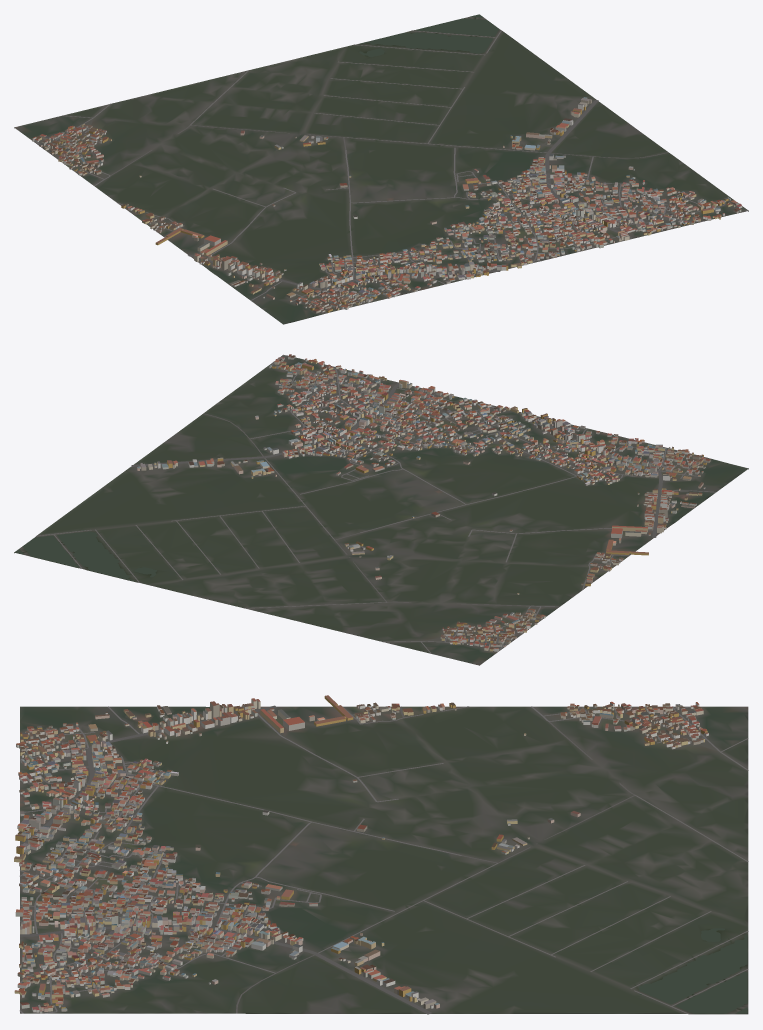
3 views of the same model, one above another, from view 1: azimuth 30°, elevation 25°; view 2: azimuth 150°, elevation 25°; view 3: azimuth 270°, elevation 25° (orthographic). The views are drawn at different scales.
Parts seen in each view (by area): view 1: ground, buildings, roads, water; view 2: ground, buildings, roads, water; view 3: ground, buildings, roads, water.
Boxes of the visible parts, <box> form: ground: <box>14,16,748,324</box>; buildings: <box>32,97,742,313</box>; roads: <box>35,30,747,303</box>; water: <box>210,14,499,272</box>; ground: <box>14,354,748,665</box>; buildings: <box>137,354,710,651</box>; roads: <box>36,355,716,653</box>; water: <box>15,519,677,581</box>; ground: <box>20,706,748,1014</box>; buildings: <box>14,695,708,1013</box>; roads: <box>19,705,748,1014</box>; water: <box>638,928,747,1013</box>.
Size of the model in its own units: 1443 by 30.01 by 1415.
